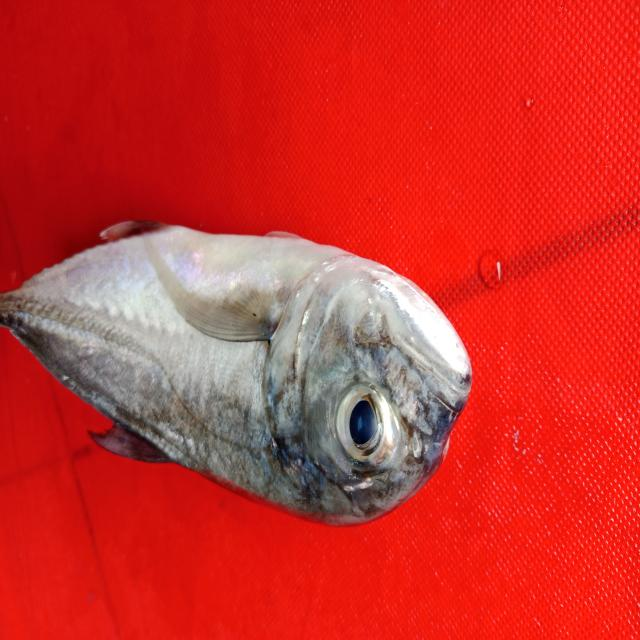ikan: (6, 194, 482, 540)
